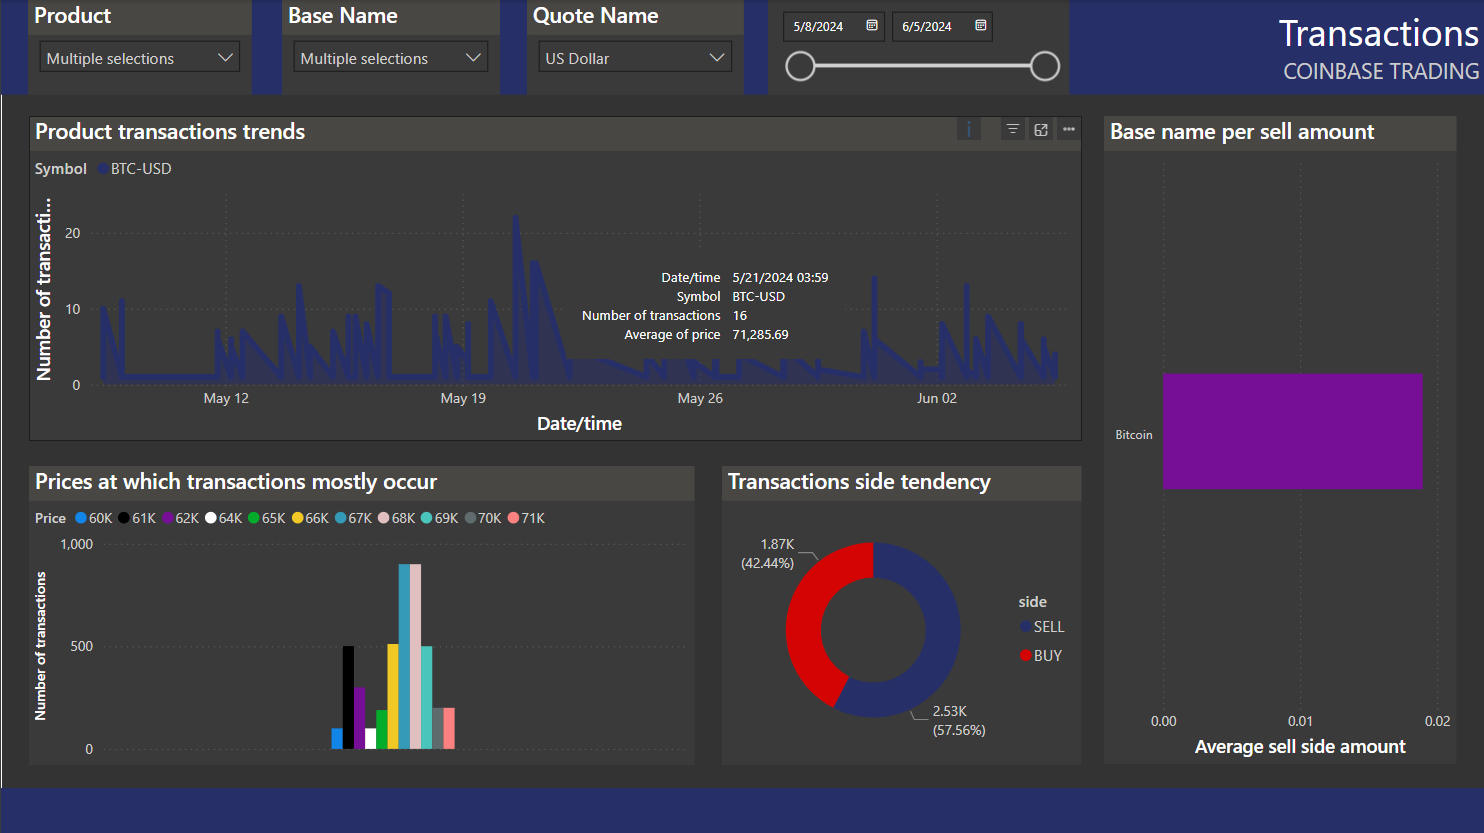

The dashboard page shown, as its layout file describes it:
{"tool":"powerbi","page":{"name":"Transactions","canvas":[1280,720],"ordinal":1},"visuals":[{"type":"group","id":"g1","title":"Bars","box":[0,0,1280,720],"z":0},{"type":"shape","title":"Top bar","box":[0,0,1280,81.7],"z":0,"group":"g1"},{"type":"textbox","title":"Title","box":[671.7,0,608.3,81.7],"z":1000},{"type":"shape","title":"Bottom bar","box":[0,680,1280,40],"z":1000,"group":"g1"},{"type":"areaChart","title":"Product transactions trends","fields":{"Series":["powerbi Historical_transactions.symbol"],"Category":["powerbi Historical_transactions.transaction_date.Variation.Date Hierarchy.Year"],"Y":["Count(powerbi Historical_transactions.transaction_id)"]},"box":[24,100,908,280],"z":2000},{"type":"clusteredBarChart","title":"Base name per sell amount","fields":{"Y":["Avg(powerbi Historical_transactions.sell_side_amount)"],"Category":["powerbi Currencies.base_name"]},"box":[951.4,100,304.3,558.6],"z":3000},{"type":"slicer","title":"Quote Name","fields":{"Values":["powerbi Currencies.quote_name"]},"box":[453.3,0,186.7,81.7],"z":4000},{"type":"slicer","title":"Base Name","fields":{"Values":["powerbi Currencies.base_name"]},"box":[242.2,0,187.8,82.2],"z":5000},{"type":"slicer","title":"Product","fields":{"Values":["powerbi Currencies.product_id"]},"box":[23.3,0,193.3,81.7],"z":6000},{"type":"slicer","title":"Date","fields":{"Values":["Dates.Date"]},"box":[661.7,0,260.4,81.8],"z":7000},{"type":"donutChart","title":"Transactions side tendency","fields":{"Category":["powerbi Historical_transactions.side"],"Y":["CountNonNull(powerbi Historical_transactions.side)"]},"box":[622,402,310,258],"z":8000},{"type":"clusteredColumnChart","title":"Prices at which transactions mostly occur","fields":{"Y":["CountNonNull(powerbi Historical_transactions.Price_th)"],"Series":["powerbi Historical_transactions.Price_th"]},"box":[24,402,574,258],"z":9000}]}

Visuals, with their boxes in screenshot pixels (x1, y1, x2, y2), scaled from the page's 1280x720 canvas onto the 1484x833 screenshot:
"Bars" group: 0/0/1483/832
"Top bar" shape: 0/0/1483/95
"Title" textbox: 779/0/1483/95
"Bottom bar" shape: 0/787/1483/832
"Product transactions trends" areaChart: 28/116/1081/440
"Base name per sell amount" clusteredBarChart: 1103/116/1456/762
"Quote Name" slicer: 526/0/742/95
"Base Name" slicer: 281/0/499/95
"Product" slicer: 27/0/251/95
"Date" slicer: 767/0/1069/95
"Transactions side tendency" donutChart: 721/465/1081/764
"Prices at which transactions mostly occur" clusteredColumnChart: 28/465/693/764
